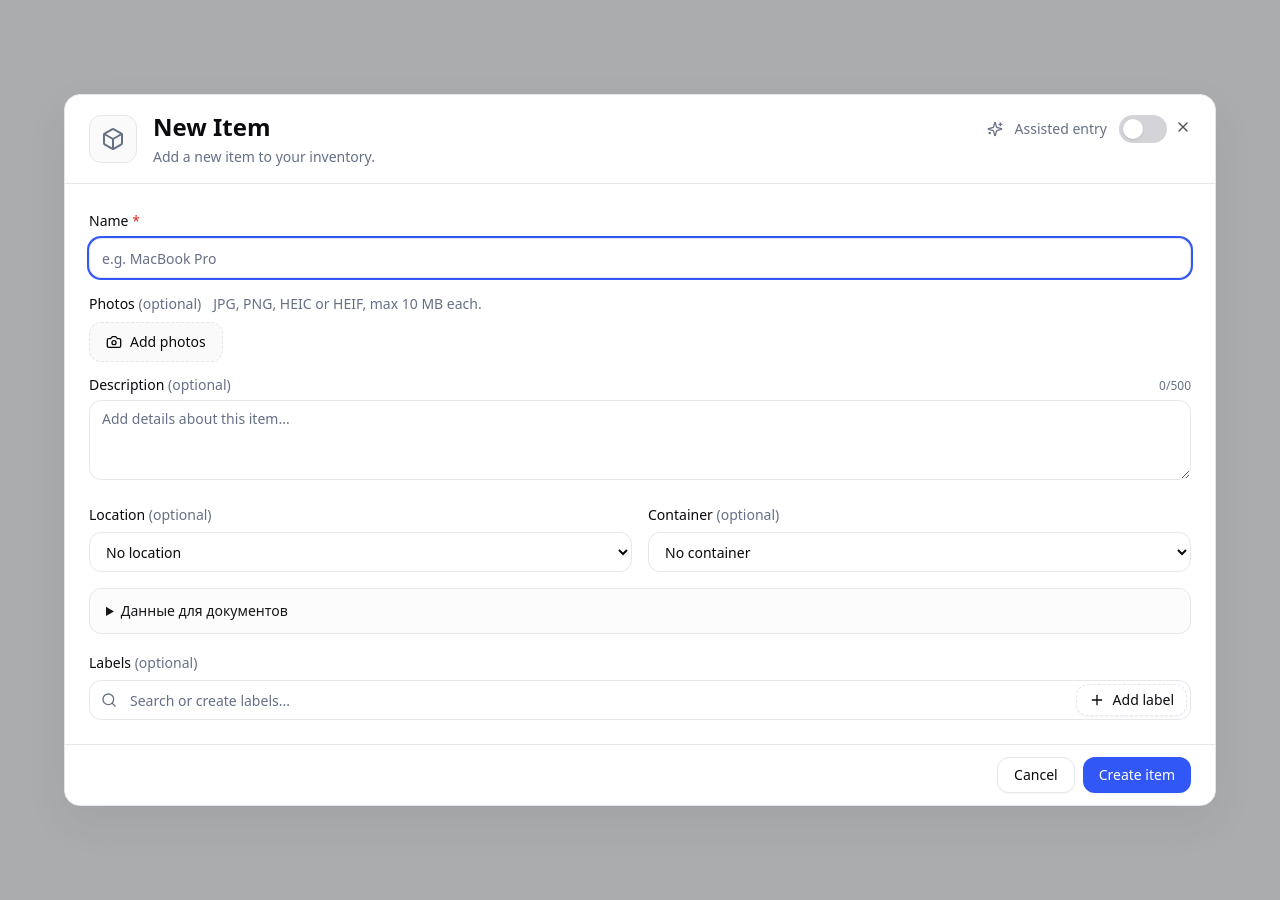
assisted mode advances after card creation and warns before closing
Click the switch named "Assisted entry" at (1143, 129), box [1119,115,1167,143]
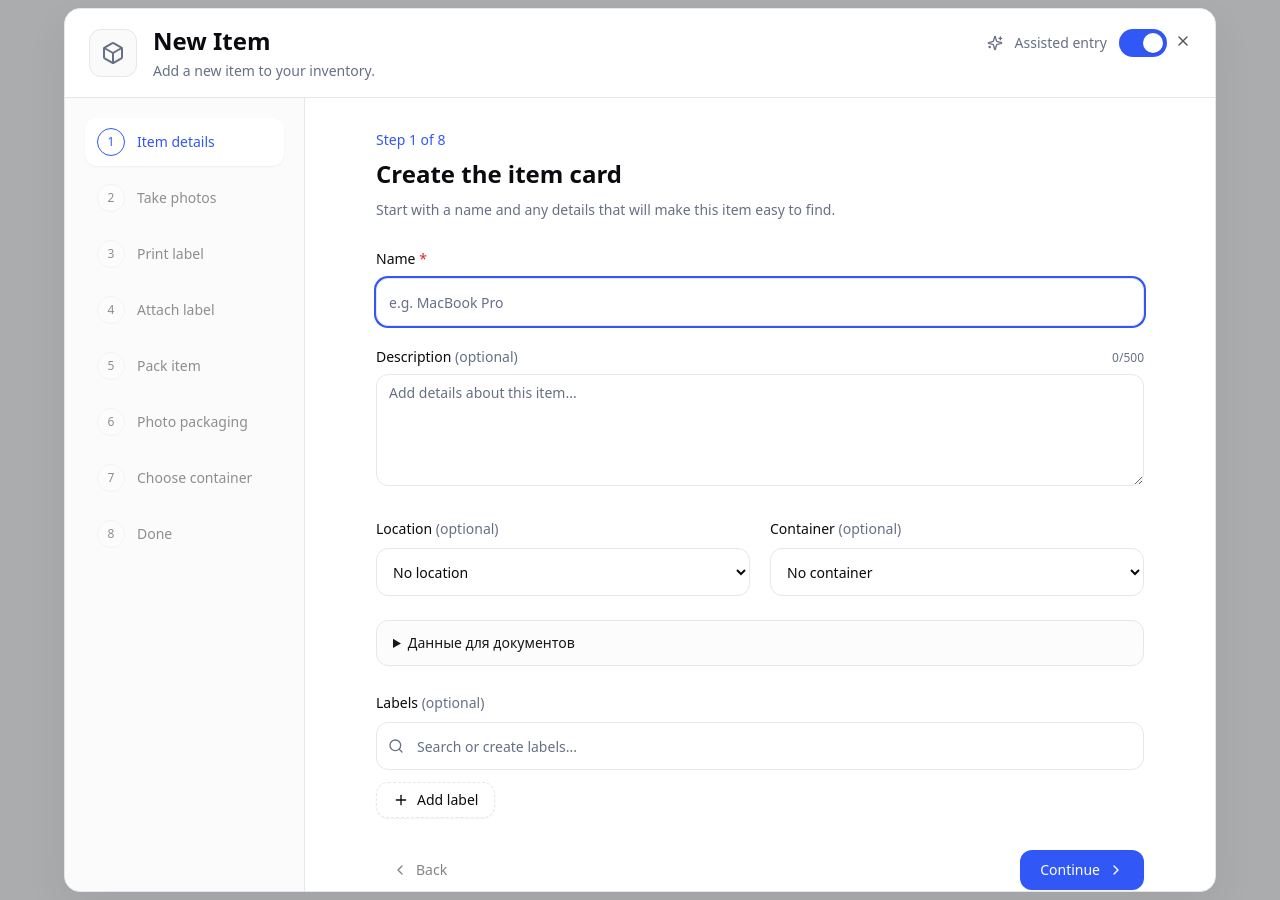
Now the heading "Create the item card" is shown, box [376,157,622,190]
Type "Camera" into the field labelled "Name *" at (760, 302), box [376,278,1144,326]
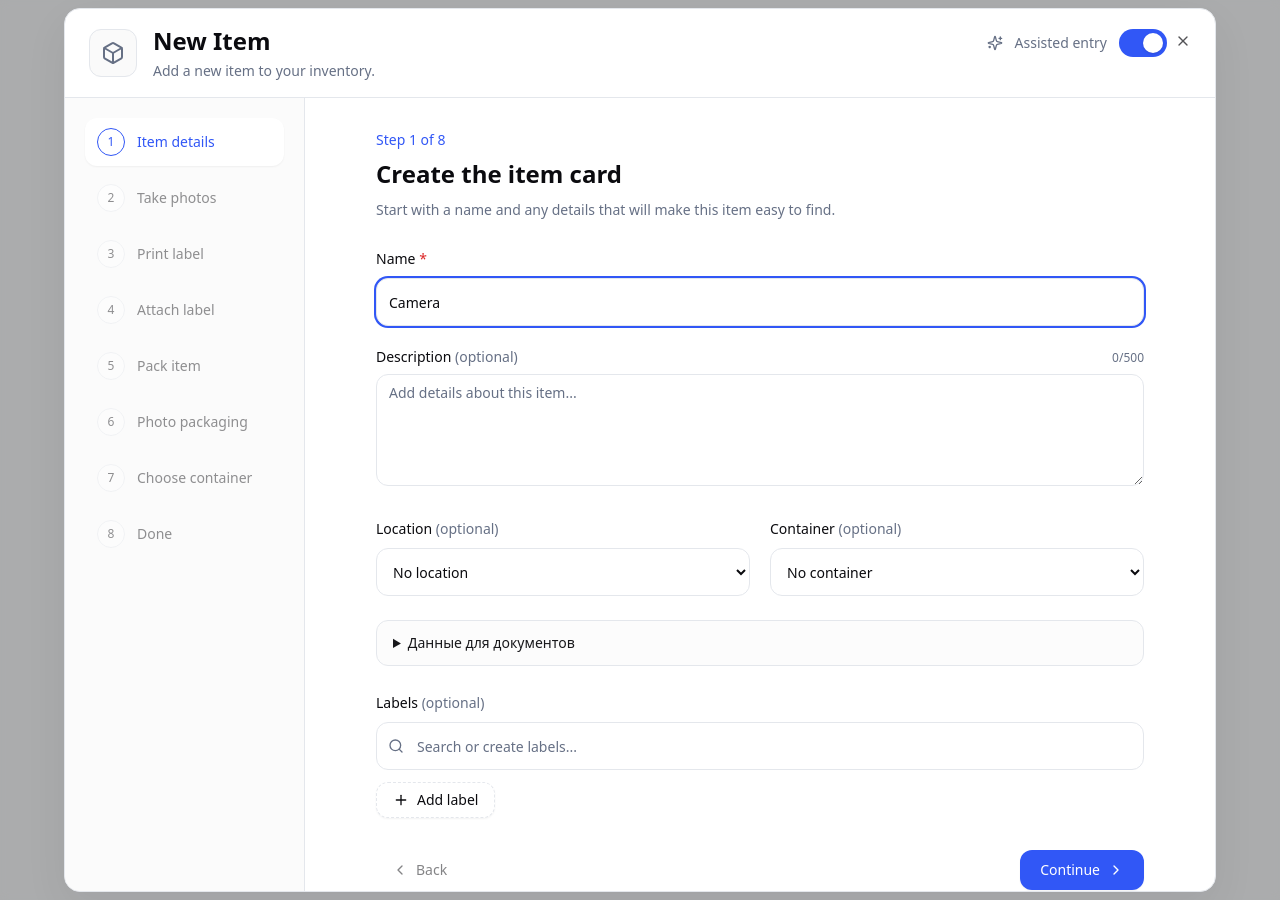
Click the button "Continue" at (1082, 870), box [1020,850,1144,890]
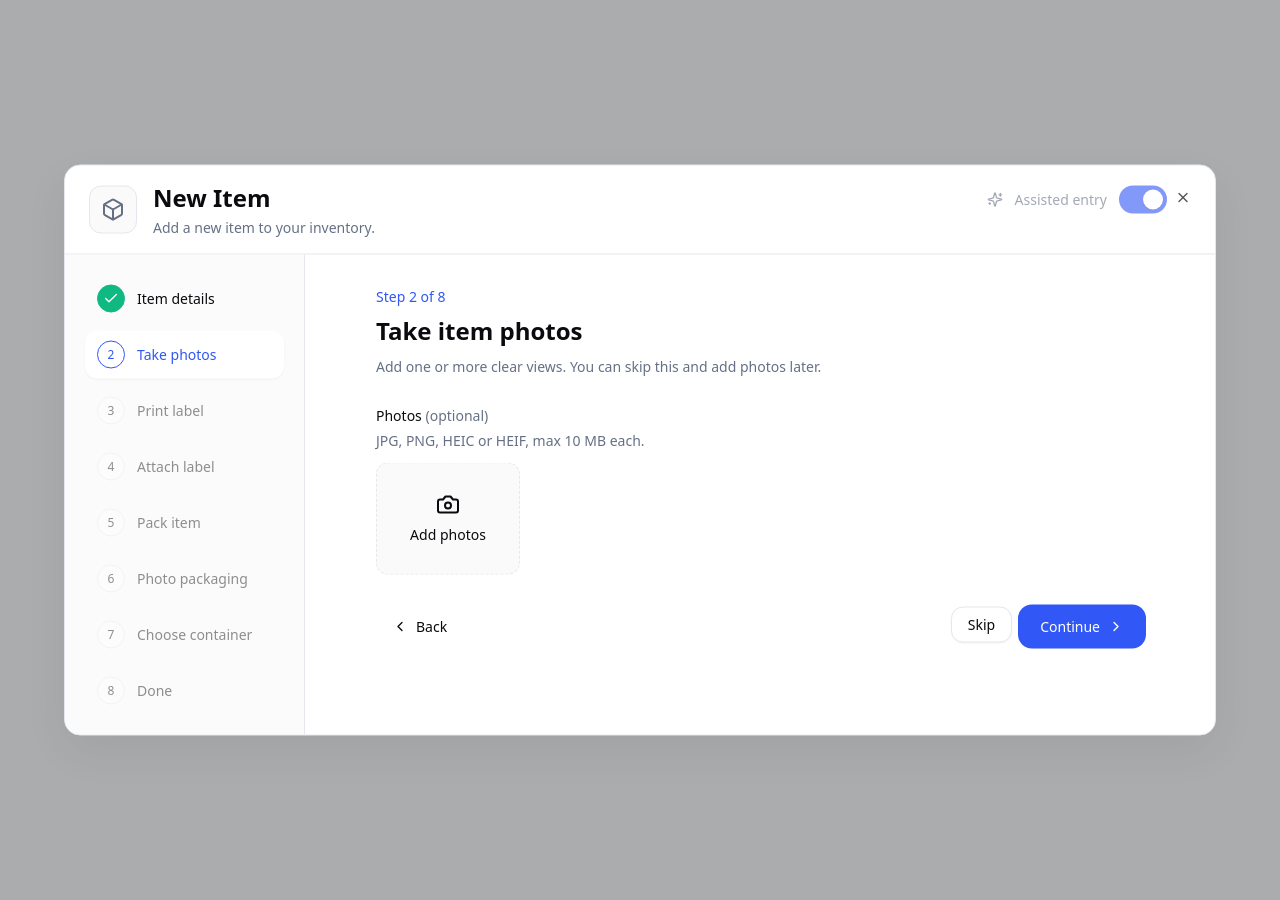
Now the heading "Take item photos" is shown, box [376,314,582,346]
Now the switch named "Assisted entry" is disabled, box [1119,186,1167,214]
Click the button named "Close" at (1183, 198), box [1175,190,1191,206]
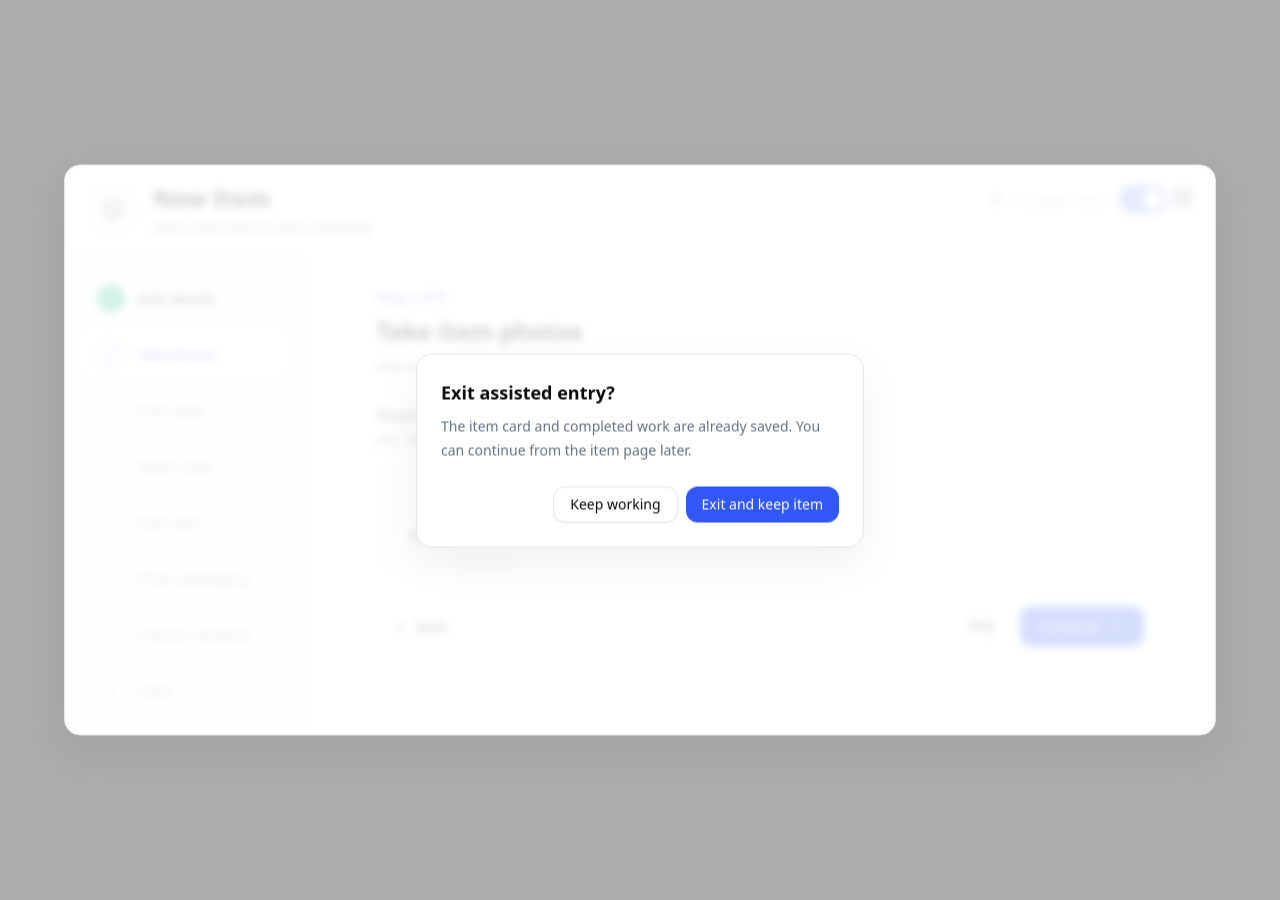
Now the dialog shows "already saved", box [441,416,820,459]
